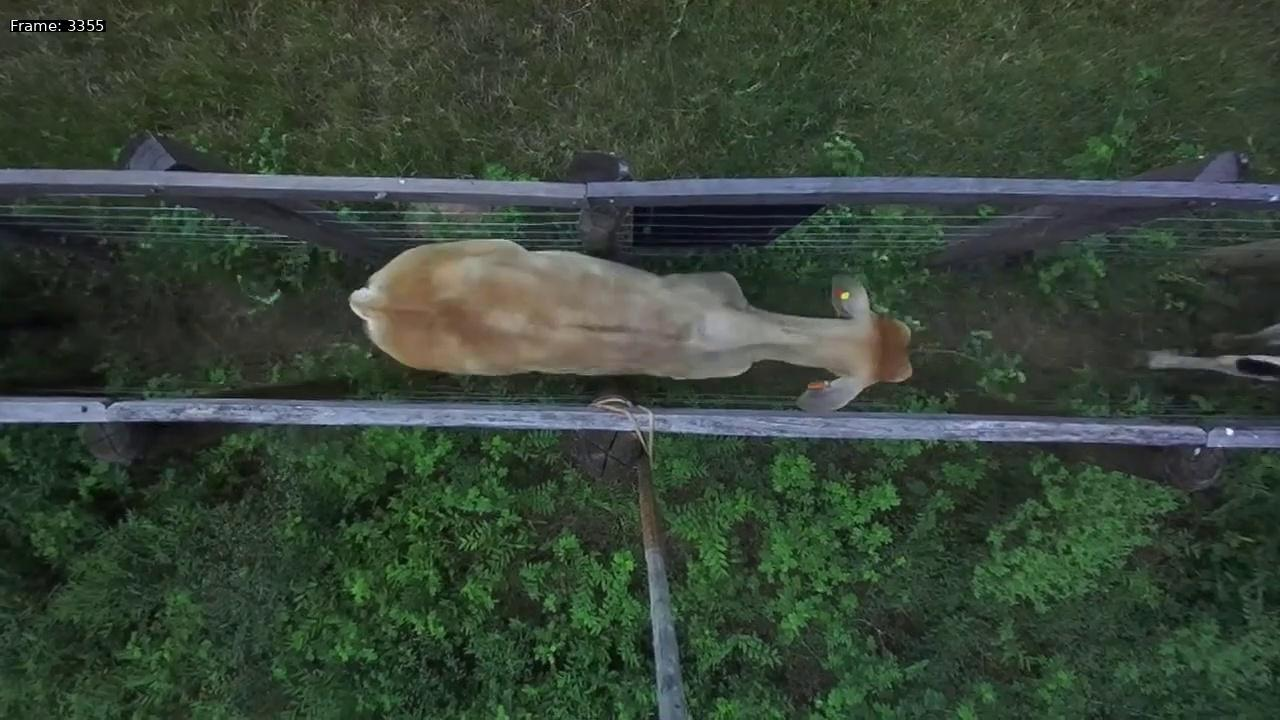cattle: (345, 224, 924, 416)
